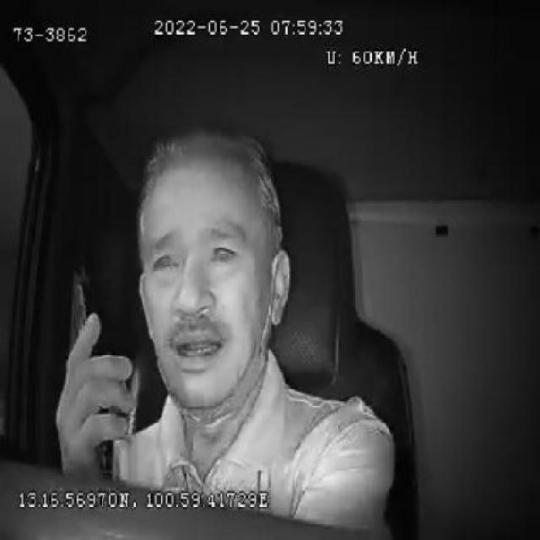phone: (66, 269, 116, 484)
